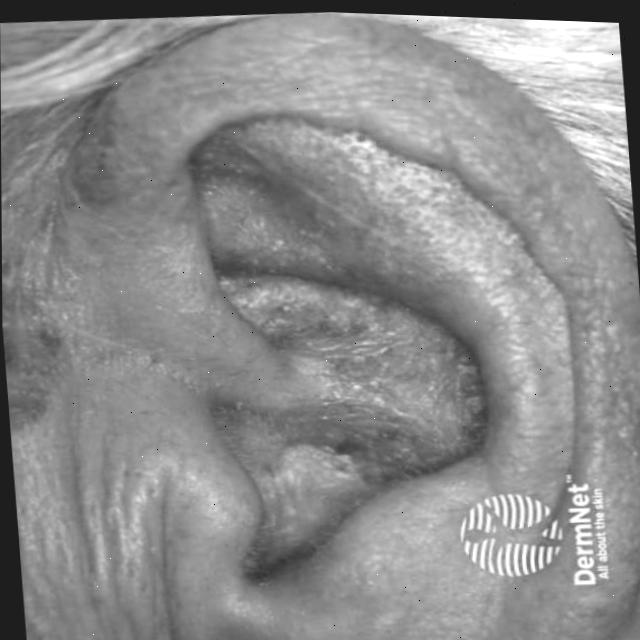lupus-detected: (110, 4, 640, 640)
